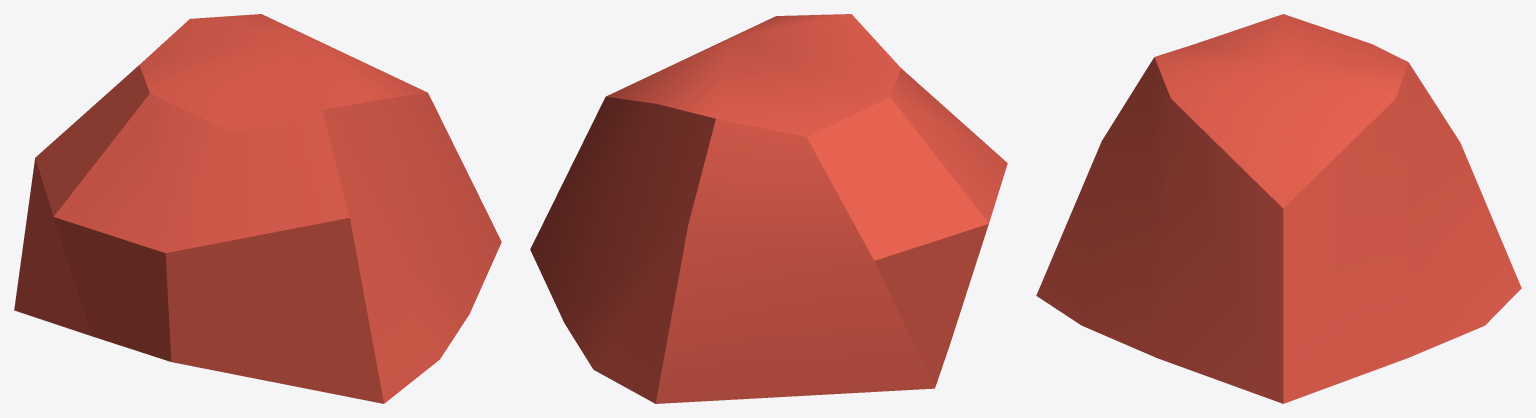
The model's file is boulder_model_placeholder_colortest.glb.
The picture shows the model from 3 angles, left to right: view 1: azimuth 30°, elevation 25°; view 2: azimuth 150°, elevation 25°; view 3: azimuth 270°, elevation 25°; orthographic projection. The views are drawn at different scales.
Visible parts, largest first — view 1: Sphere; view 2: Sphere; view 3: Sphere.
Part boxes in pixels (box(x1,y1,x2,y2)): Sphere: box(14, 14, 501, 403); Sphere: box(530, 14, 1007, 403); Sphere: box(1036, 14, 1521, 403).
Bounding box in the file's own units: 2.81 × 1.57 × 2.74.
